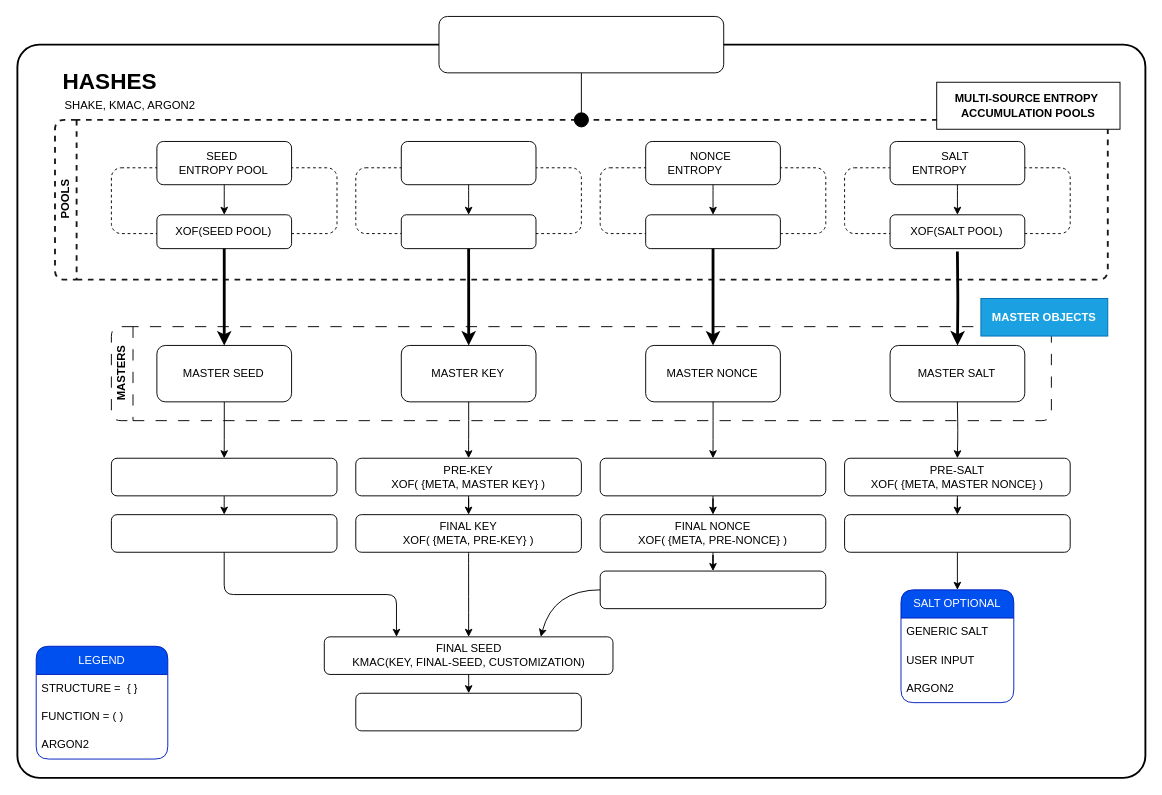
This 1162x795 diagram has some shape labels left out. Here are the shapes that lost their labels. From the top down, the centre of each, then its label:
At [581,44]: "POST-QUANTUM HIERARCHAL SEED DERIVATION".
At [468,163]: "KEY ENTROPY POOL".
At [468,231]: "XOF(KEY POOL)".
At [712,231]: "XOF(NONCE POOL)".
At [223,476]: "PRE-SEED XOF( {META, MASTER SEED} )".
At [712,476]: "PRE-NONCE XOF( {META, MASTER NONCE} )".
At [223,533]: "FINAL SEED XOF( {META , PRE- SEED, OPT-PBKD} )".
At [957,533]: "FINAL SALT XOF( {META, PRE-NONCE} )".
At [712,589]: "CUSTOMIZATION STRUCT{META, NONCE}".
At [468,711]: "KEY PAIR XOF(FINAL SEED)".
